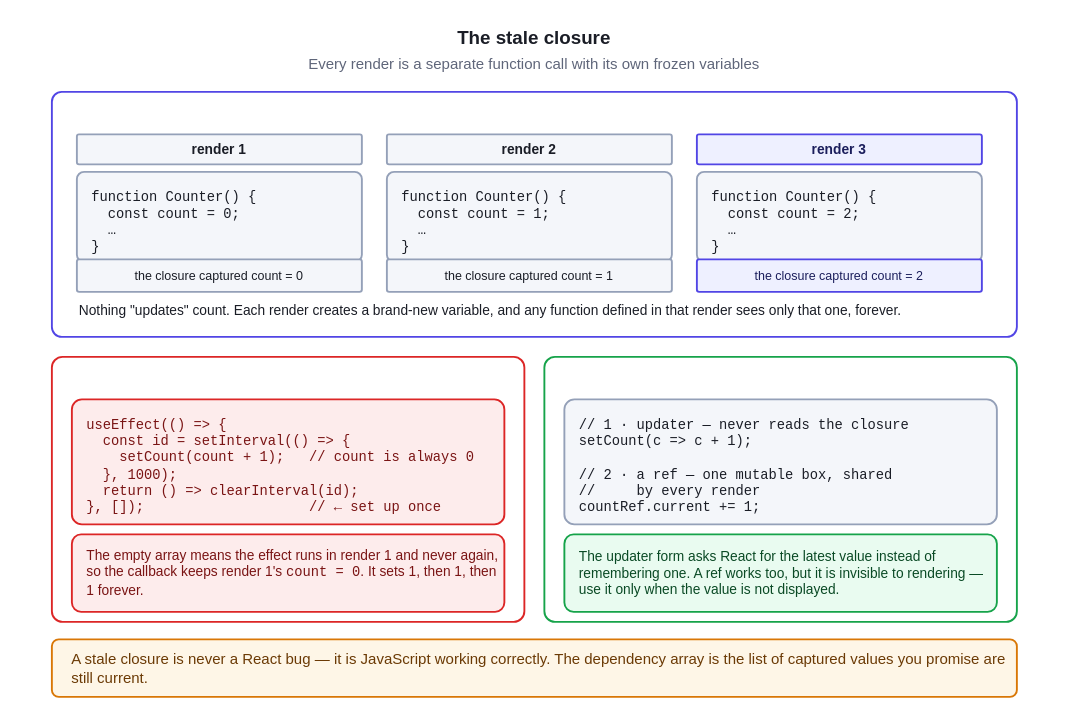
Image size: 1068x719. Some labels were removed from this diagram. The box of each missing label's shape, as (x1, y1, x2, y2) in pixels:
An interval set up once, capturing render 1: (50, 355, 525, 622)
One component, three renders, three different count variables: (50, 90, 1017, 337)
The two escapes: (543, 355, 1017, 622)
